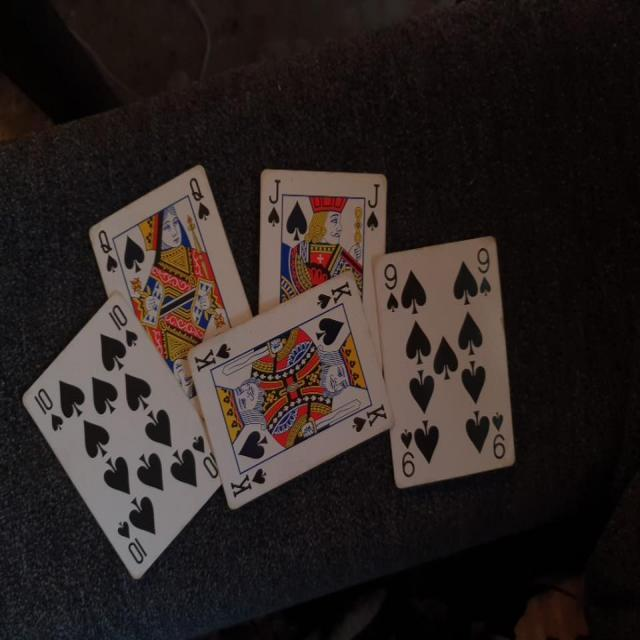10 of spades: (14, 289, 235, 576)
9 of spades: (374, 234, 518, 490)
jack of spades: (253, 162, 388, 436)
king of spades: (188, 270, 396, 524)
queen of spades: (79, 164, 266, 434)
